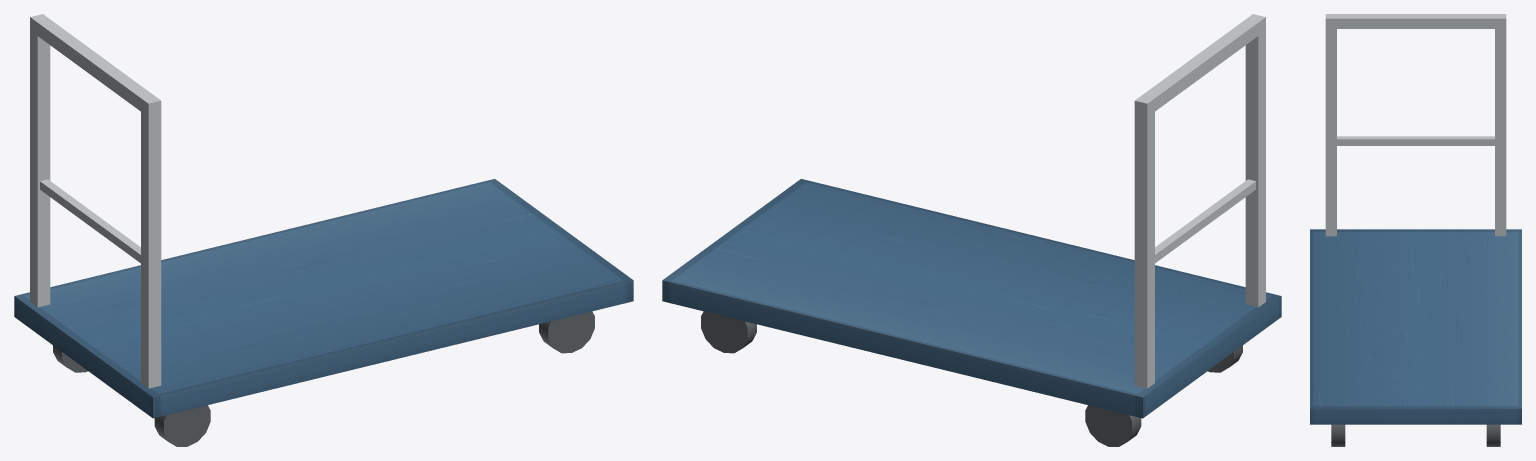
Rendered from cart_flat.glb.
3 views of the same model, side by side, from view 1: azimuth 30°, elevation 25°; view 2: azimuth 150°, elevation 25°; view 3: azimuth 270°, elevation 25° (orthographic). The views are drawn at different scales.
Visible parts, largest first — view 1: cart_flat; view 2: cart_flat; view 3: cart_flat.
Part boxes in pixels (x1,y1,x2,y2): cart_flat: (14, 14, 633, 446); cart_flat: (662, 14, 1281, 446); cart_flat: (1310, 14, 1521, 446).
Size of the model in its own units: 1.2 by 0.85 by 0.6.
Materials: 3 (1 with a texture image).
